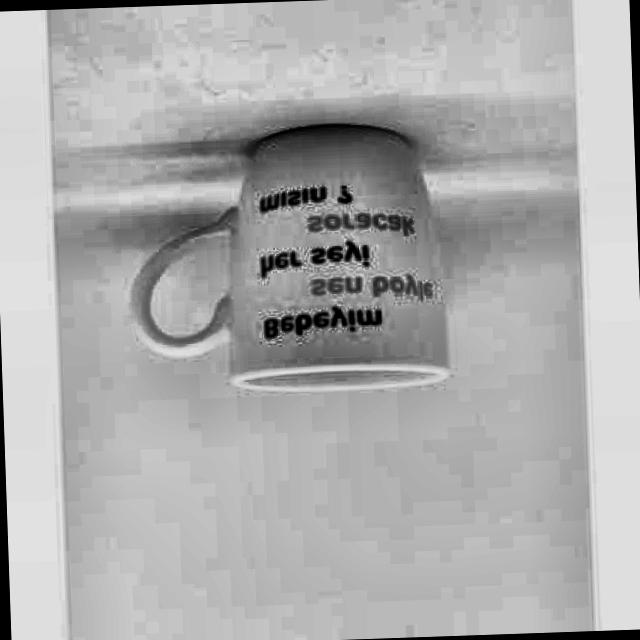Mug: (121, 119, 452, 398)
